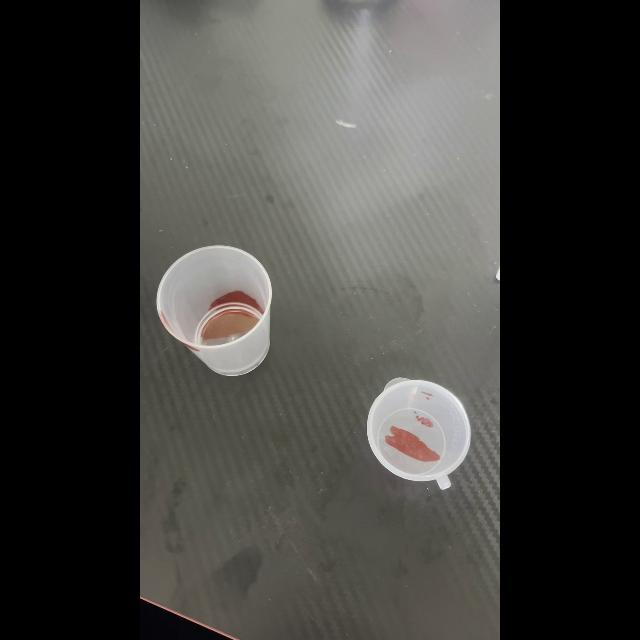dirty: (157, 246, 283, 378), (367, 369, 473, 489)
